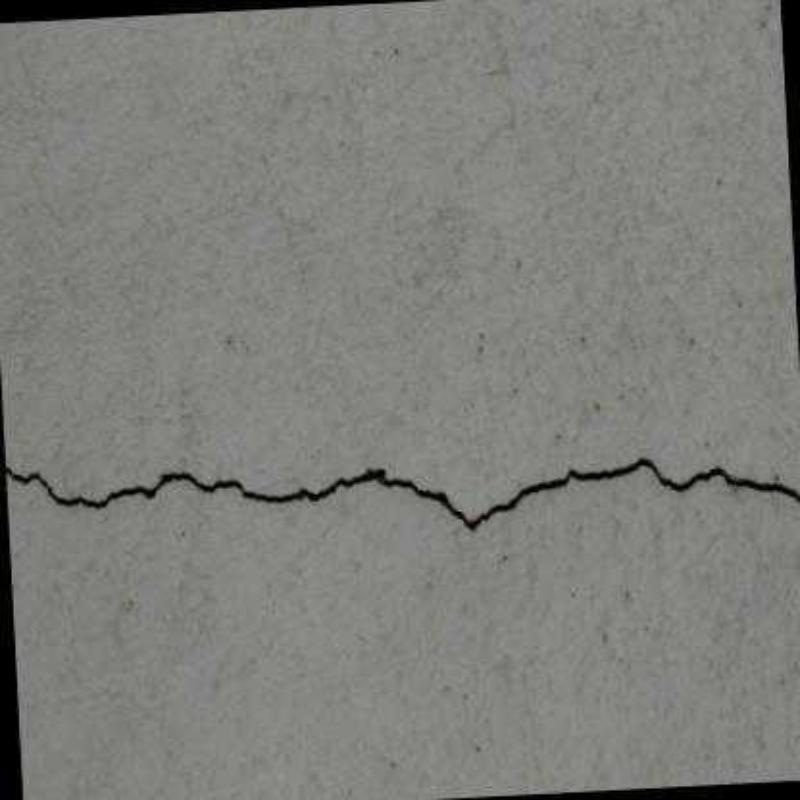pothole: (5, 454, 800, 533)
